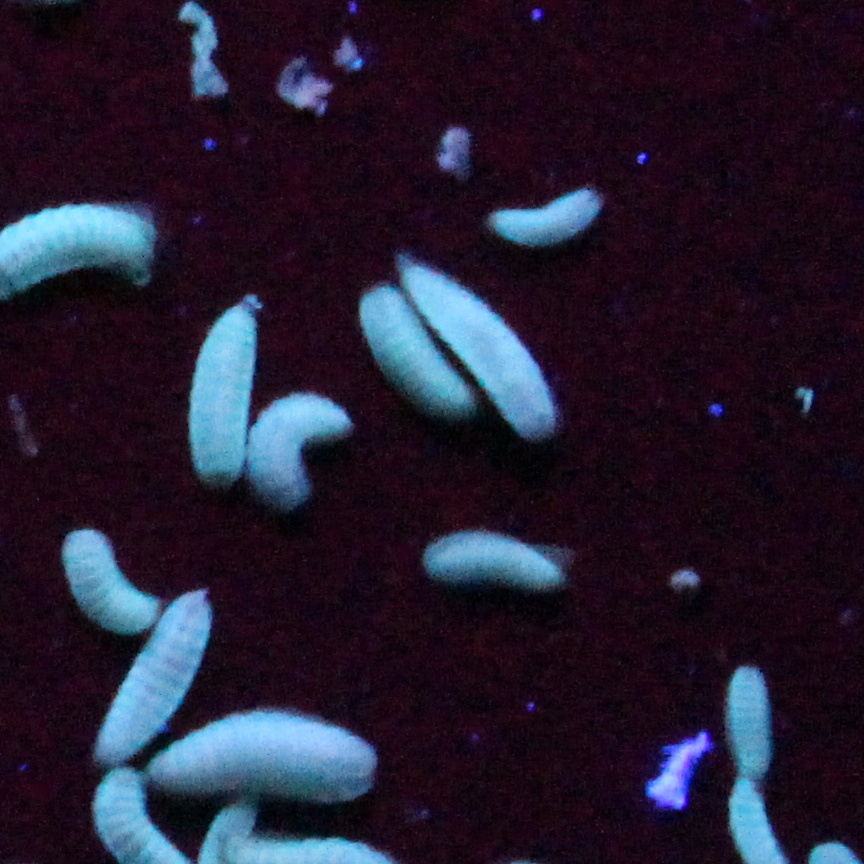larve: (399, 265, 559, 445), (106, 605, 212, 752), (152, 725, 352, 785), (192, 285, 252, 478), (266, 378, 346, 518), (59, 518, 152, 632), (419, 532, 552, 592), (485, 181, 605, 245), (726, 672, 772, 785)
